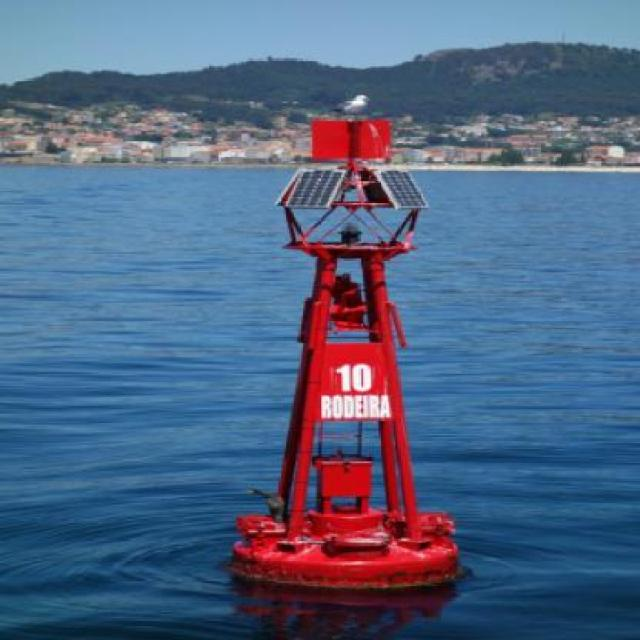buoy: (221, 107, 481, 593)
